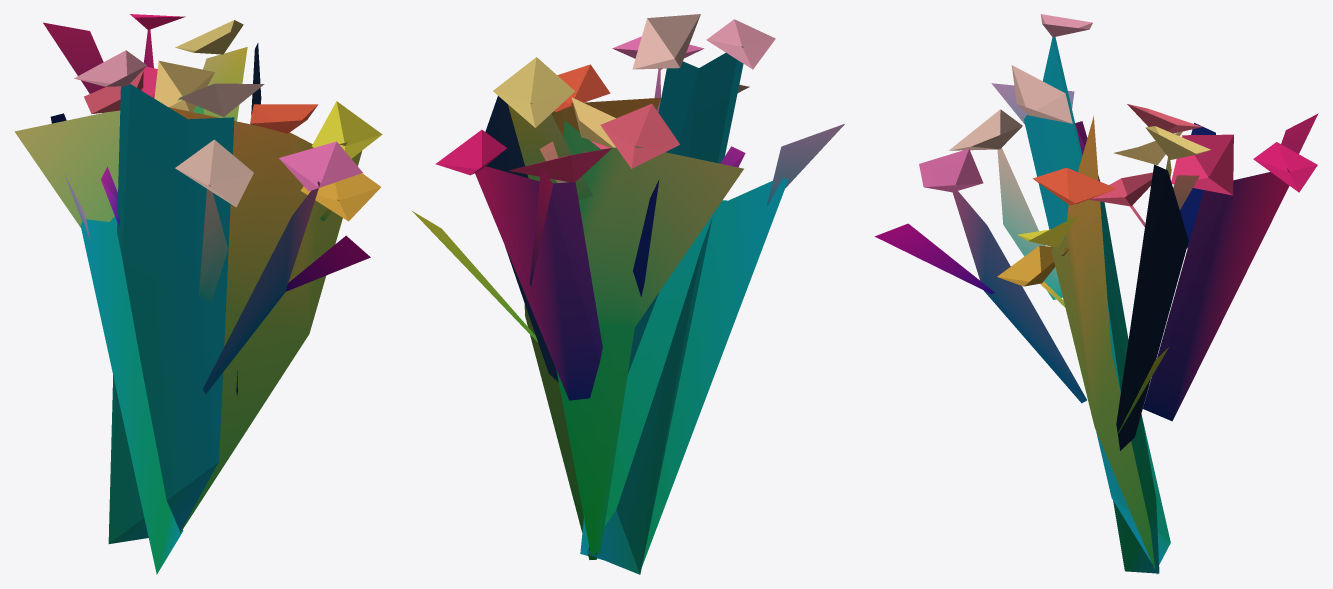
Rendered from Nordic_Coastal_Groundcover_vlqkdeaja_Mid_vlqkdeaja_VarQ_LOD2.fbx.
3 views of the same model, side by side, from view 1: azimuth 30°, elevation 25°; view 2: azimuth 150°, elevation 25°; view 3: azimuth 270°, elevation 25° (orthographic). The views are drawn at different scales.
Visible parts, largest first — view 1: _4as2_VarQ_LOD4; view 2: _4as2_VarQ_LOD4; view 3: _4as2_VarQ_LOD4.
Boxes of the visible parts, <box> form: _4as2_VarQ_LOD4: <box>14,14,382,574</box>; _4as2_VarQ_LOD4: <box>411,14,844,574</box>; _4as2_VarQ_LOD4: <box>874,14,1318,574</box>.
Bounding box in the file's own units: 27.46 × 39.78 × 30.61.
